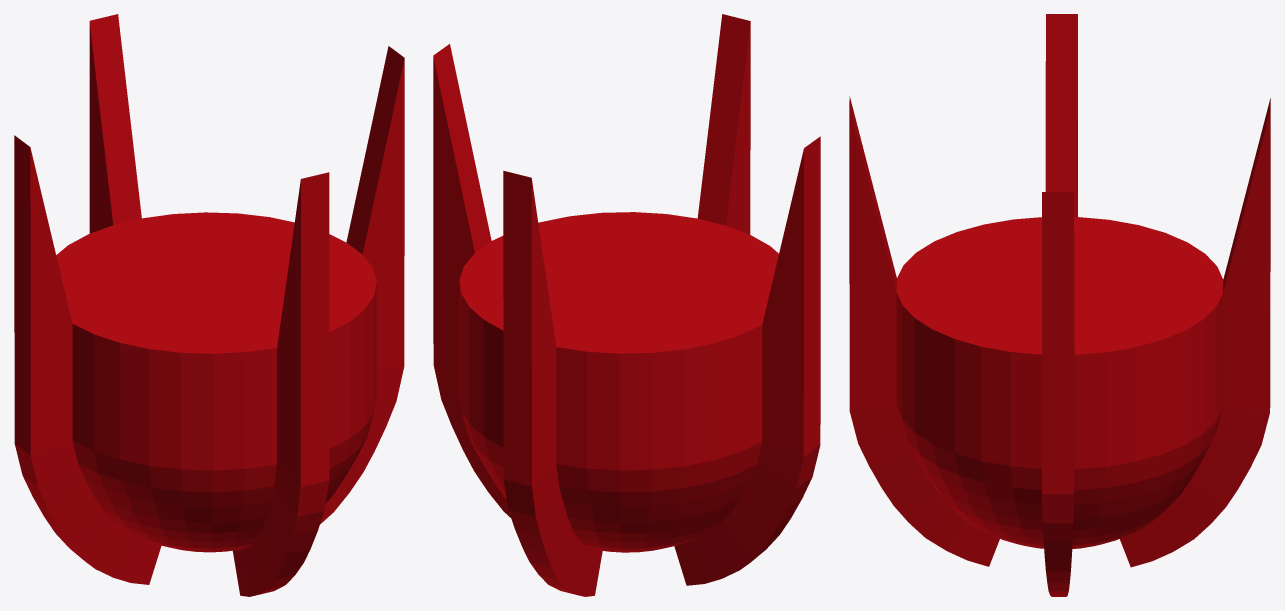
File: alien_missile.glb
3 renders of one model, left to right at view 1: azimuth 30°, elevation 25°; view 2: azimuth 150°, elevation 25°; view 3: azimuth 270°, elevation 25°, orthographic. The views are drawn at different scales.
Visible parts, largest first — view 1: Cylinder; view 2: Cylinder; view 3: Cylinder.
Boxes of the visible parts, left/top/right/bottom form: Cylinder: left=14, top=14, right=404, bottom=596; Cylinder: left=433, top=14, right=820, bottom=596; Cylinder: left=849, top=14, right=1270, bottom=596.
Bounding box in the file's own units: 2.57 × 3.11 × 2.57.
